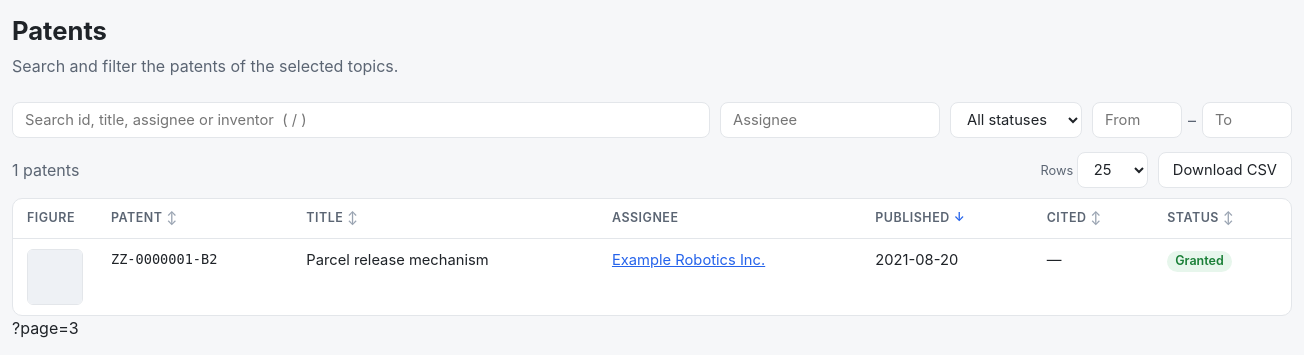
it: Patents › asks for the chosen number of rows and starts again at page 1
The image size is (1304, 355).
Select "100" in the dropdown labelled "Rows" at (1112,170), box [1077,152,1148,188]
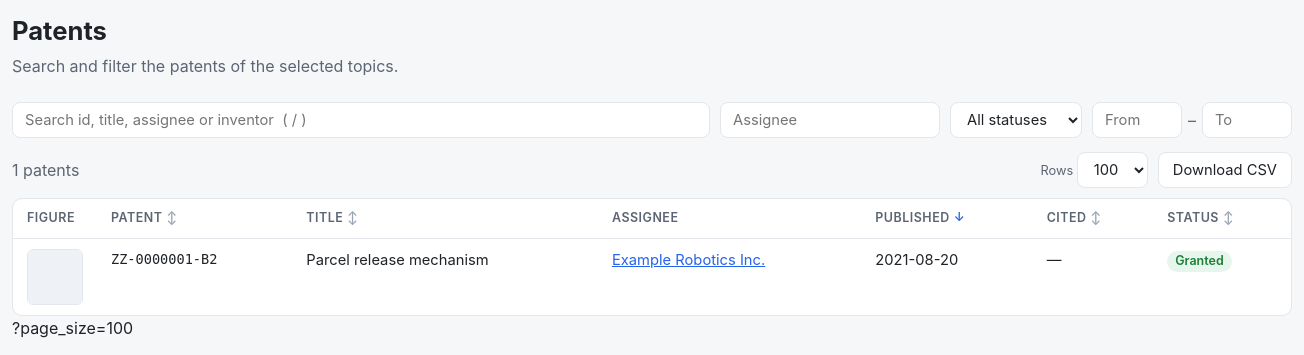
Check: the text with test id "location" reads "?page_size=100", box [12,318,133,338]
